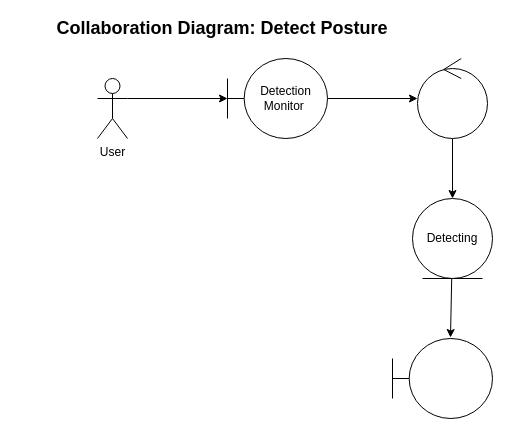
Image size: 510x436. Some labels were removed from this diagram. Here are the shapes that lost their labels. From the top down, the box of each, then its label:
(416, 58, 488, 138): Detect Controller
(392, 338, 492, 418): Notofication
